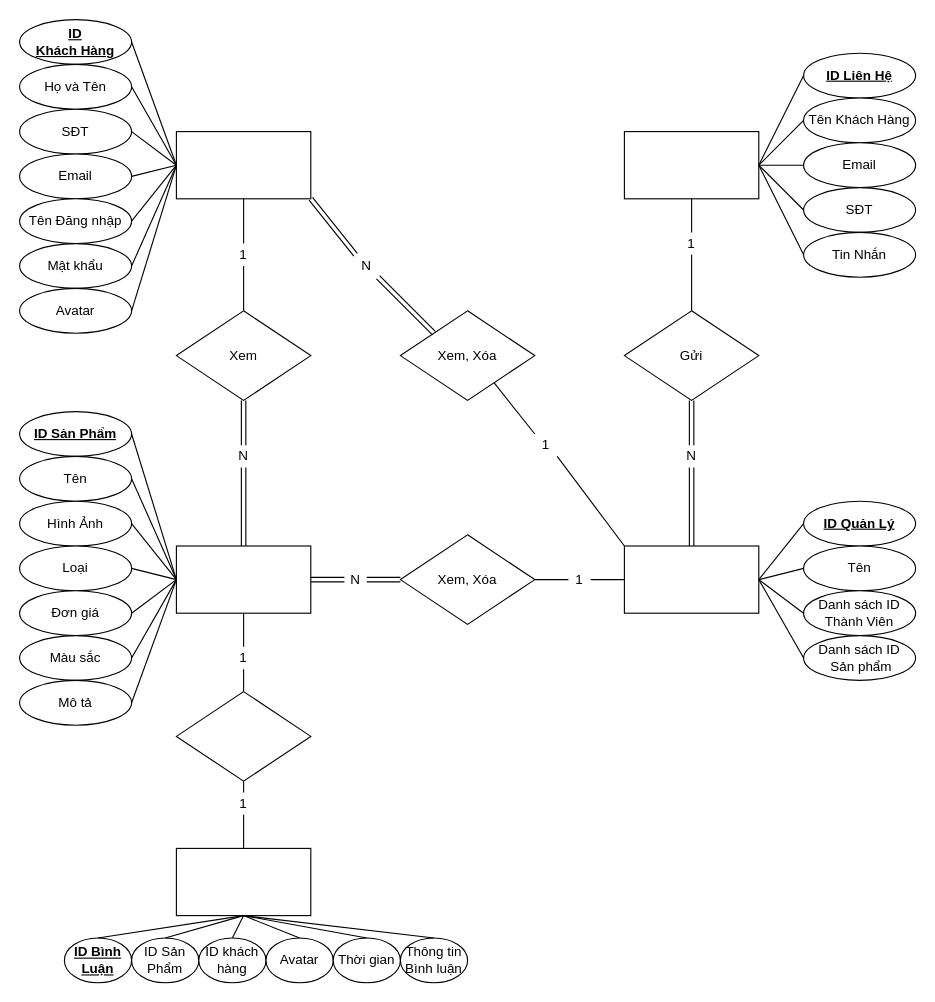
This 935x1002 diagram has some shape labels left out. Each missing label, with the centre of its shape:
"Bình Luận" goes at [243,881].
"Liên hệ" goes at [691,164].
"Quản lý" goes at [691,579].
"Sản phẩm" goes at [243,579].
"Thành Viên (Khách hàng)" goes at [243,164].
"Xem, Chỉnh Sửa , Xóa" goes at [243,735].
